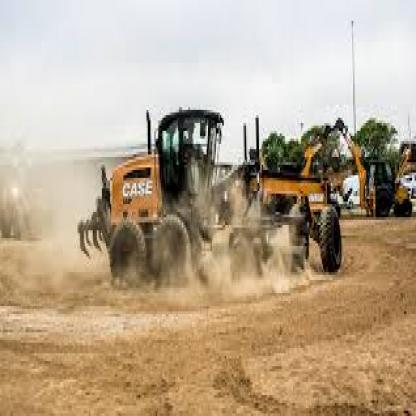bull_dozer/loader/grader: (86, 100, 351, 330)
